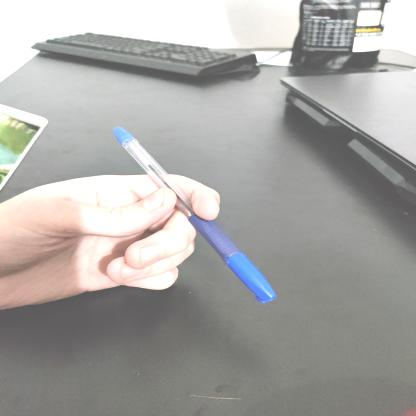pen: (87, 112, 297, 309)
